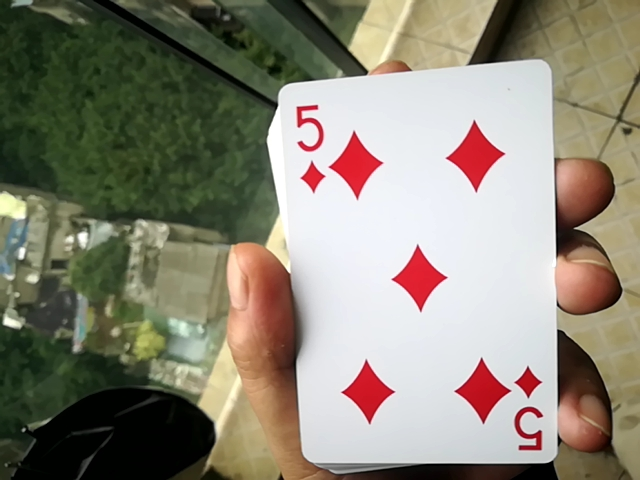fk 5: (249, 58, 566, 464)
